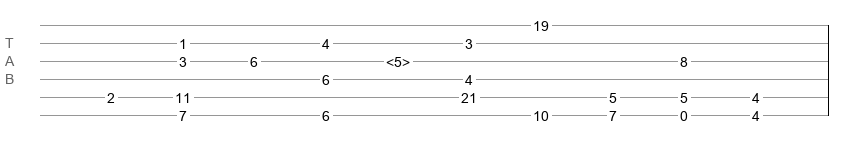0: (680, 108, 688, 118)
1: (179, 36, 187, 46)
10: (533, 108, 549, 118)
11: (175, 90, 191, 100)
19: (533, 18, 549, 28)
2: (107, 90, 115, 100)
21: (461, 90, 477, 100)
3: (179, 54, 187, 64), (465, 36, 473, 46)
4: (322, 36, 330, 46), (465, 72, 473, 82), (752, 108, 760, 118), (752, 90, 760, 100)
5: (609, 90, 617, 100), (680, 90, 688, 100)
6: (250, 54, 258, 64), (322, 72, 330, 82), (322, 108, 330, 118)
7: (179, 108, 187, 118), (609, 108, 617, 118)
8: (680, 54, 688, 64)
harmonic: (386, 54, 410, 64)
